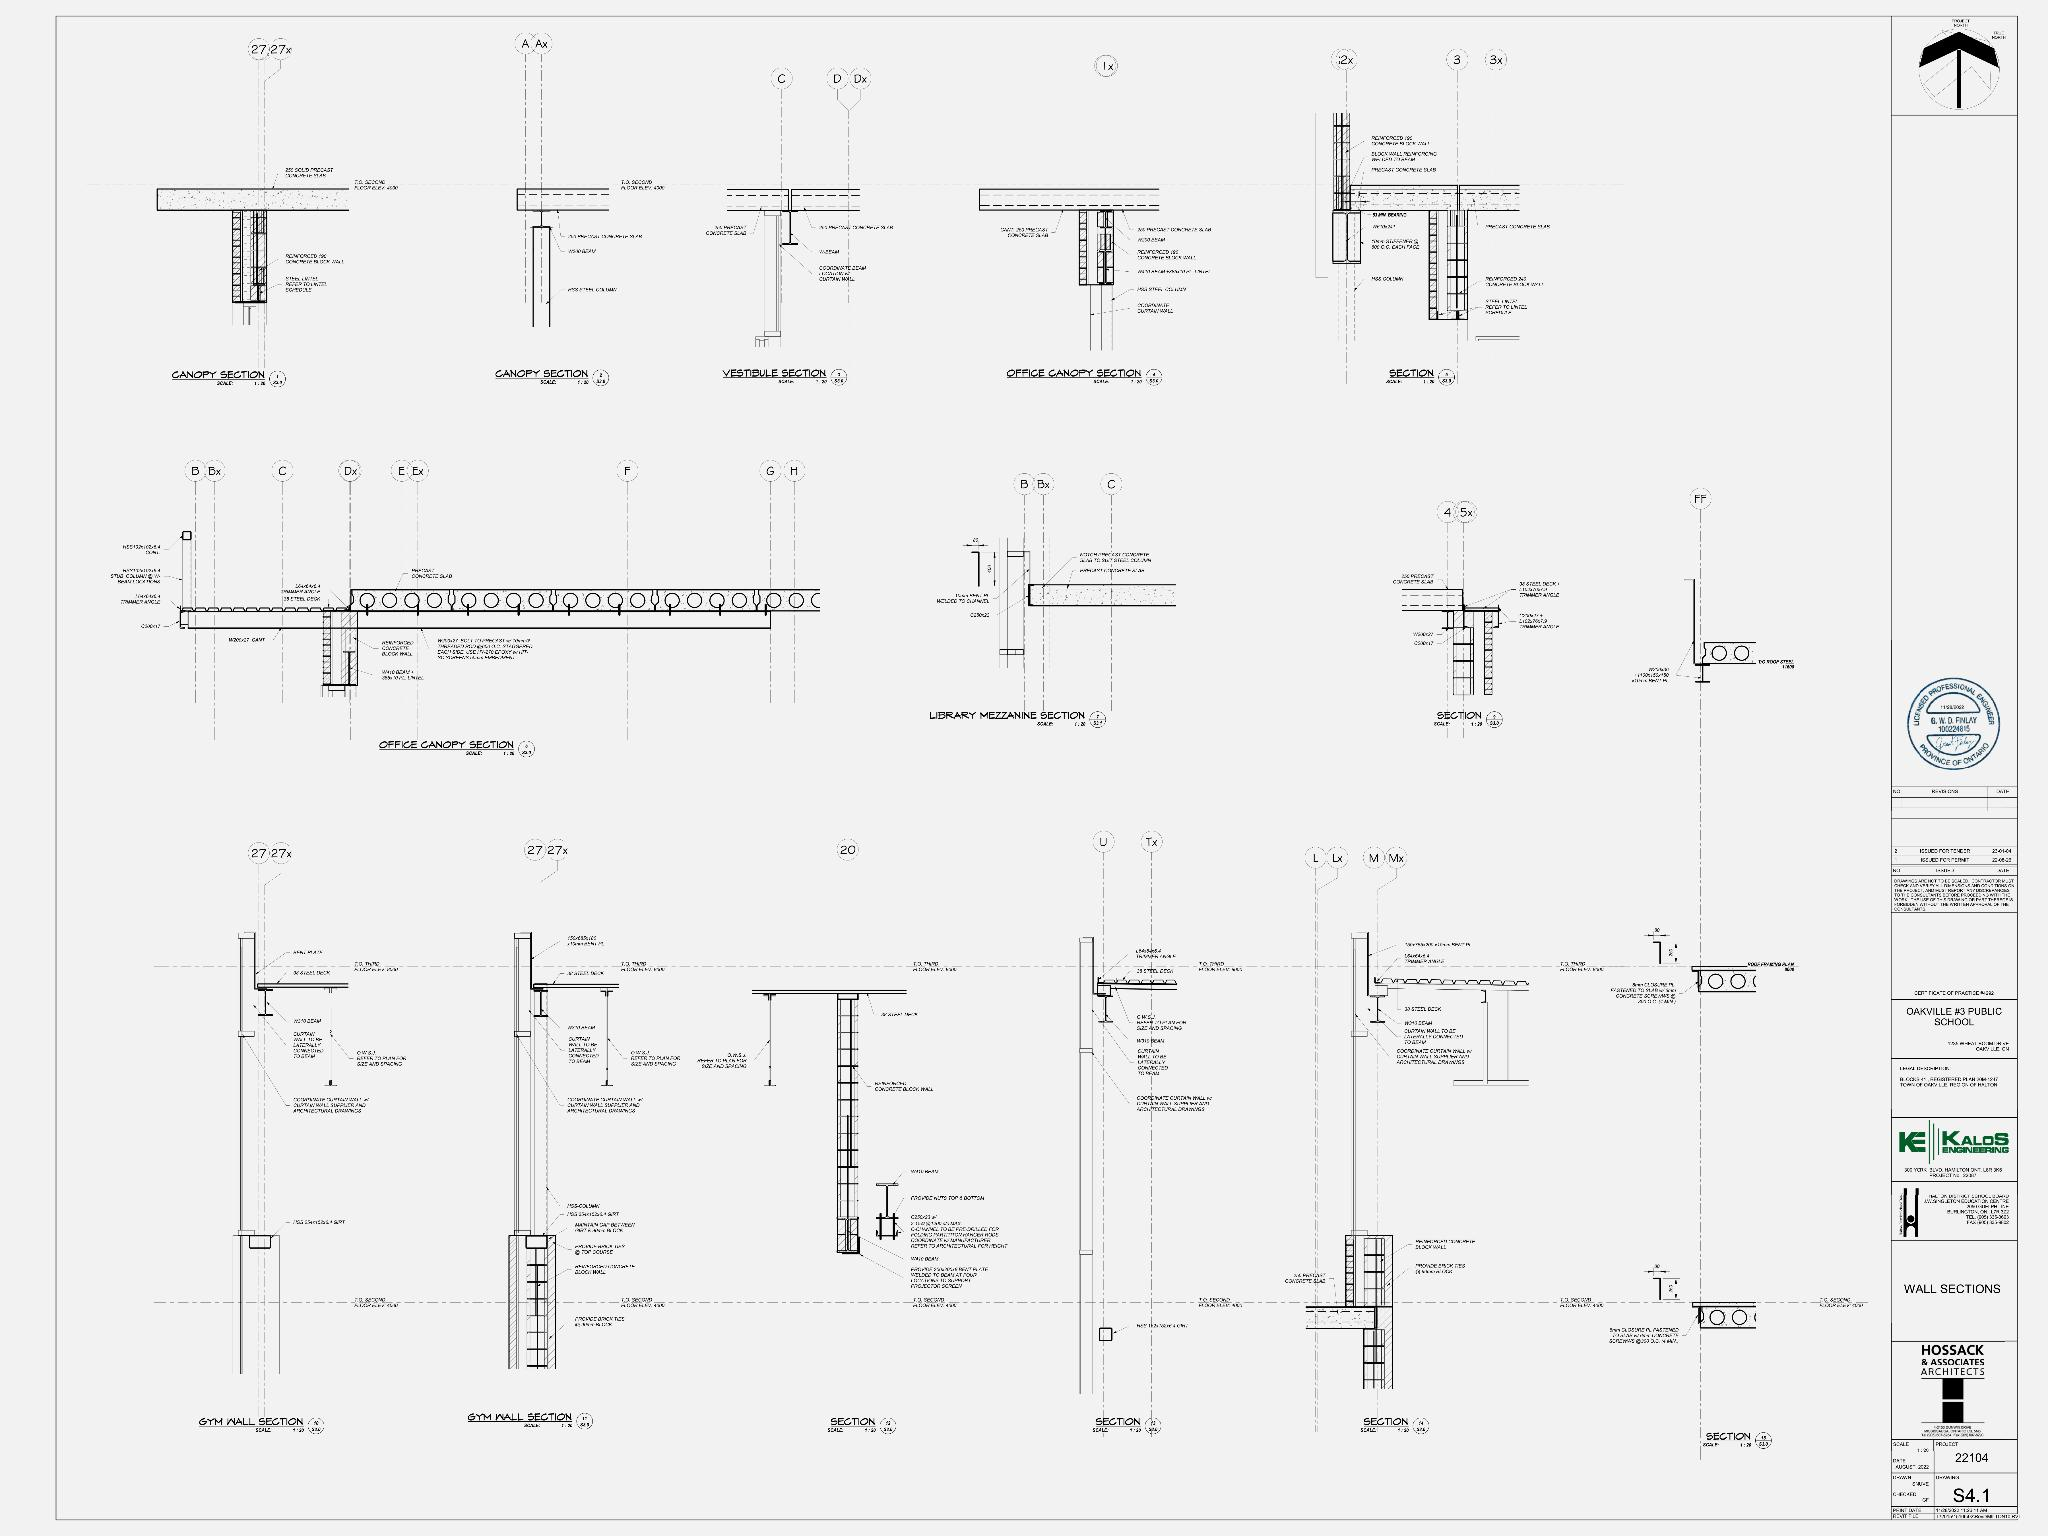title: (928, 706, 1107, 731), (1005, 364, 1163, 387), (378, 737, 537, 758), (198, 1413, 326, 1436), (170, 366, 289, 390), (719, 366, 849, 387), (466, 1410, 594, 1431), (493, 366, 610, 387), (1356, 1415, 1431, 1437), (1432, 708, 1505, 730), (1091, 1414, 1163, 1436), (824, 1415, 899, 1436), (1383, 367, 1457, 387), (1700, 1430, 1774, 1450)
